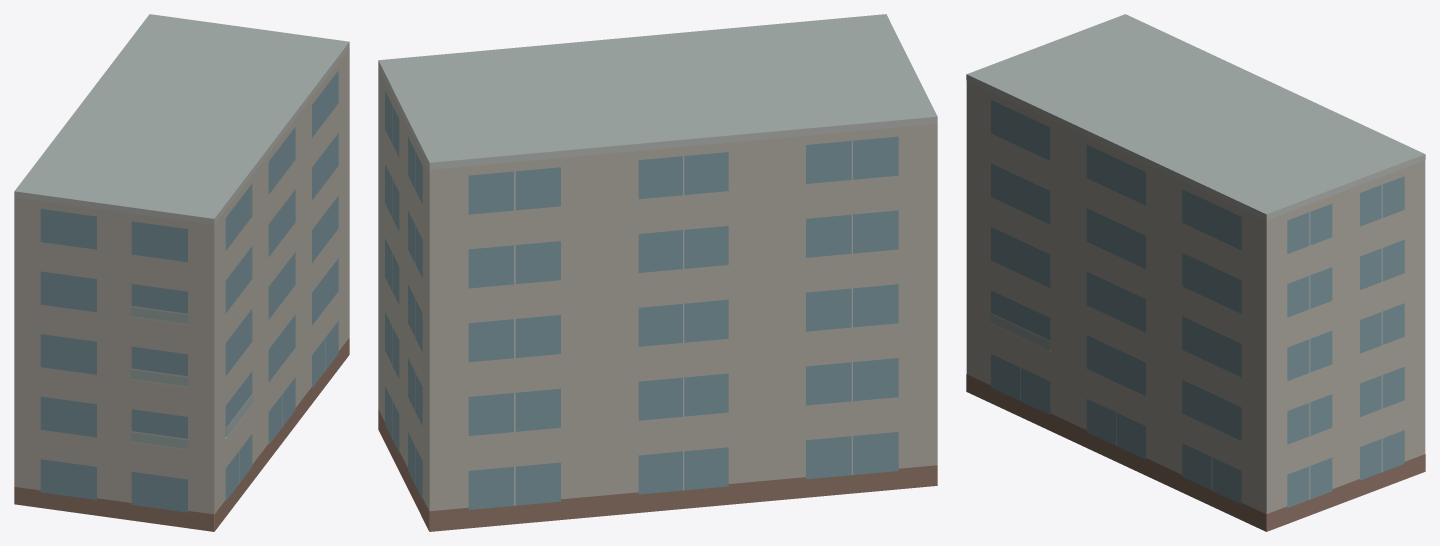
File: survey-upis-32790935.glb
The picture shows the model from 3 angles, left to right: view 1: azimuth 30°, elevation 25°; view 2: azimuth 150°, elevation 25°; view 3: azimuth 270°, elevation 25°; orthographic projection. The views are drawn at different scales.
Visible parts, largest first — view 1: survey-upis-32790935.tmp; view 2: survey-upis-32790935.tmp; view 3: survey-upis-32790935.tmp.
Boxes of the visible parts, left/top/right/bottom form: survey-upis-32790935.tmp: left=14, top=14, right=349, bottom=531; survey-upis-32790935.tmp: left=378, top=14, right=937, bottom=531; survey-upis-32790935.tmp: left=966, top=14, right=1425, bottom=531.
Bounding box in the file's own units: 17.46 × 12.9 × 16.9.
